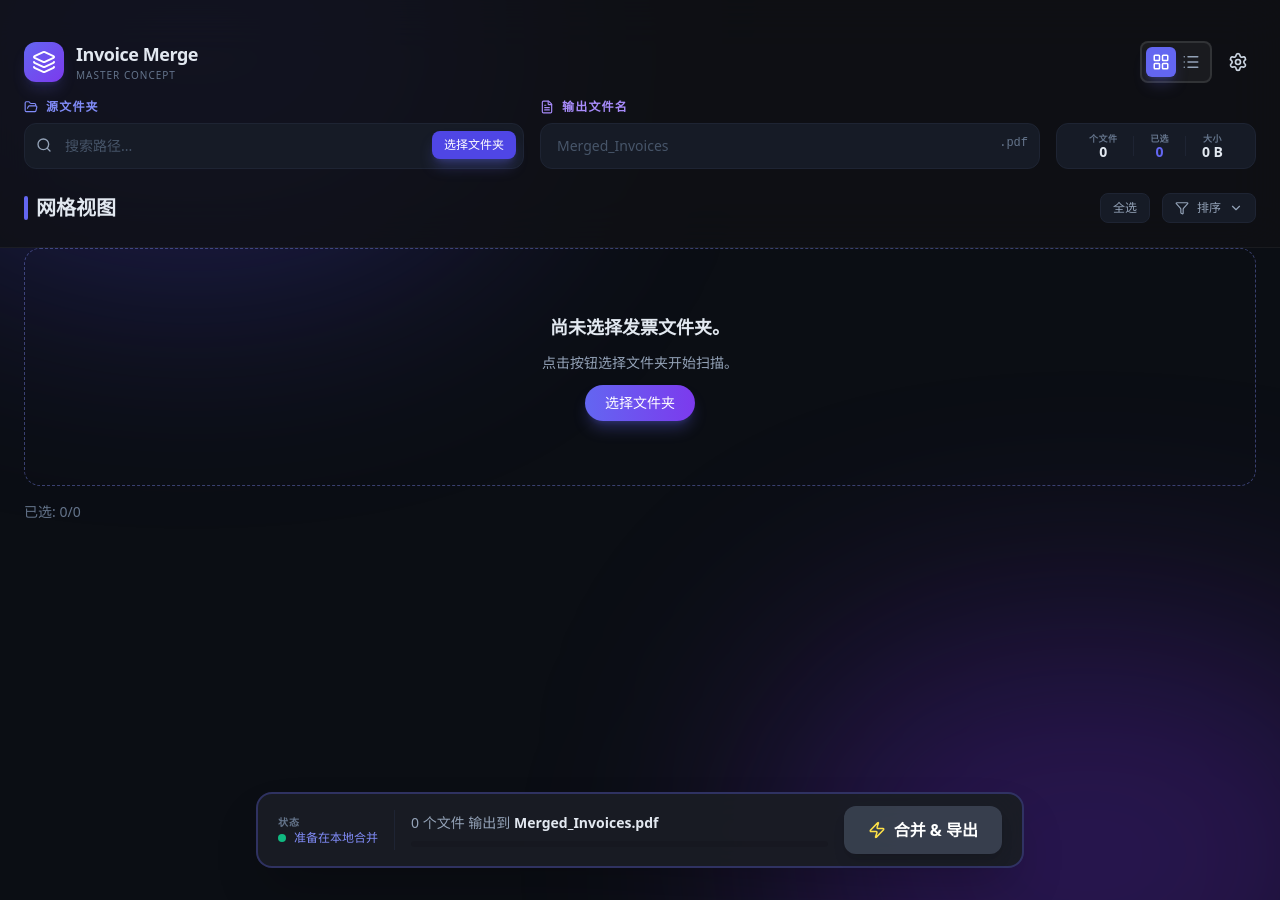
Test case: App › loads browser-selected files and enables merge
The image size is (1280, 900).
Click the button "选择文件夹" in the row of "0 B". click: click(474, 145)
box: [432,131,516,159]
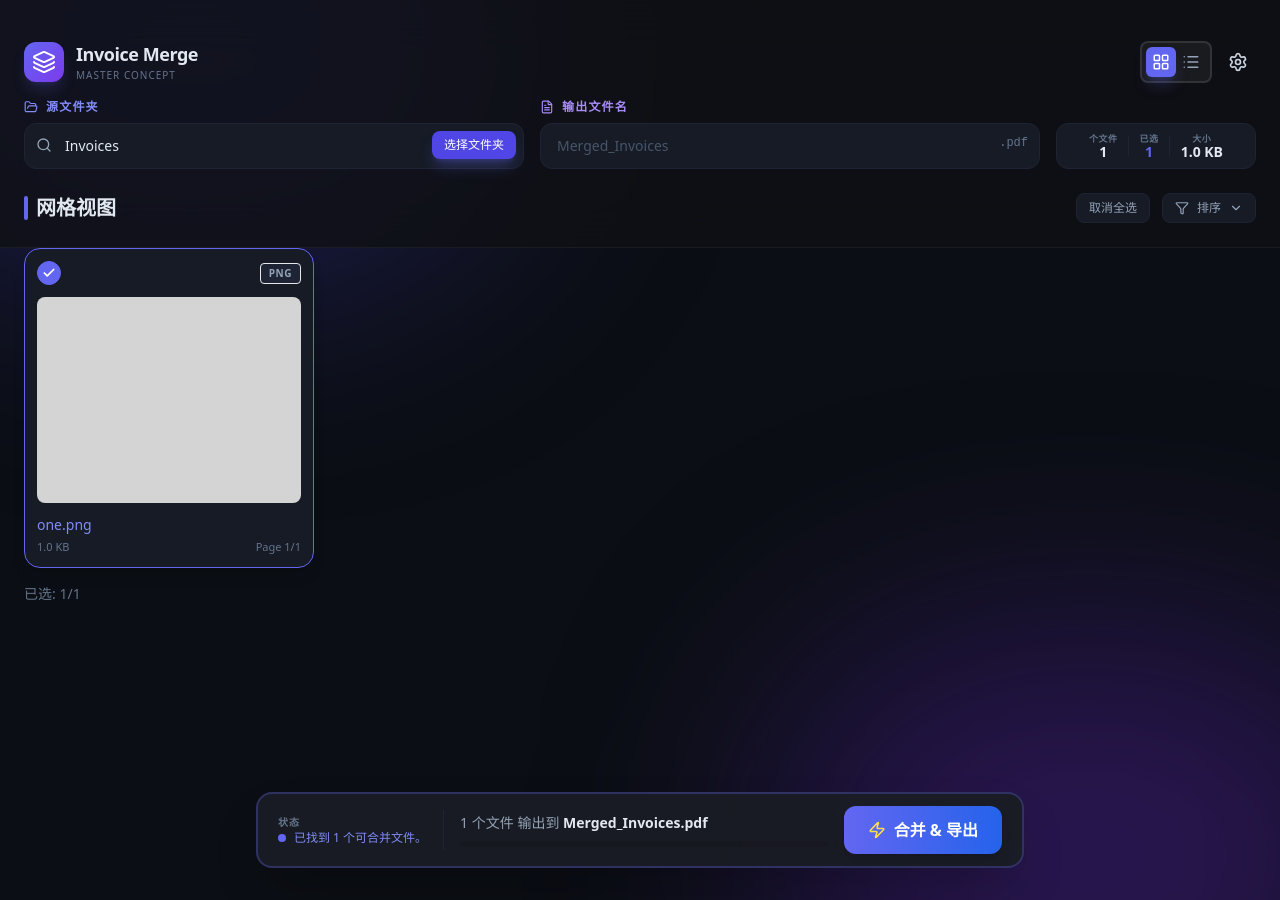
Expected: the field showing "Invoices" is shown, [24,123,524,169]
Expected: the text "one.png" is shown, [37,514,92,534]
Expected: the button with aria-label "合并并导出" is enabled, [844,806,1002,854]
